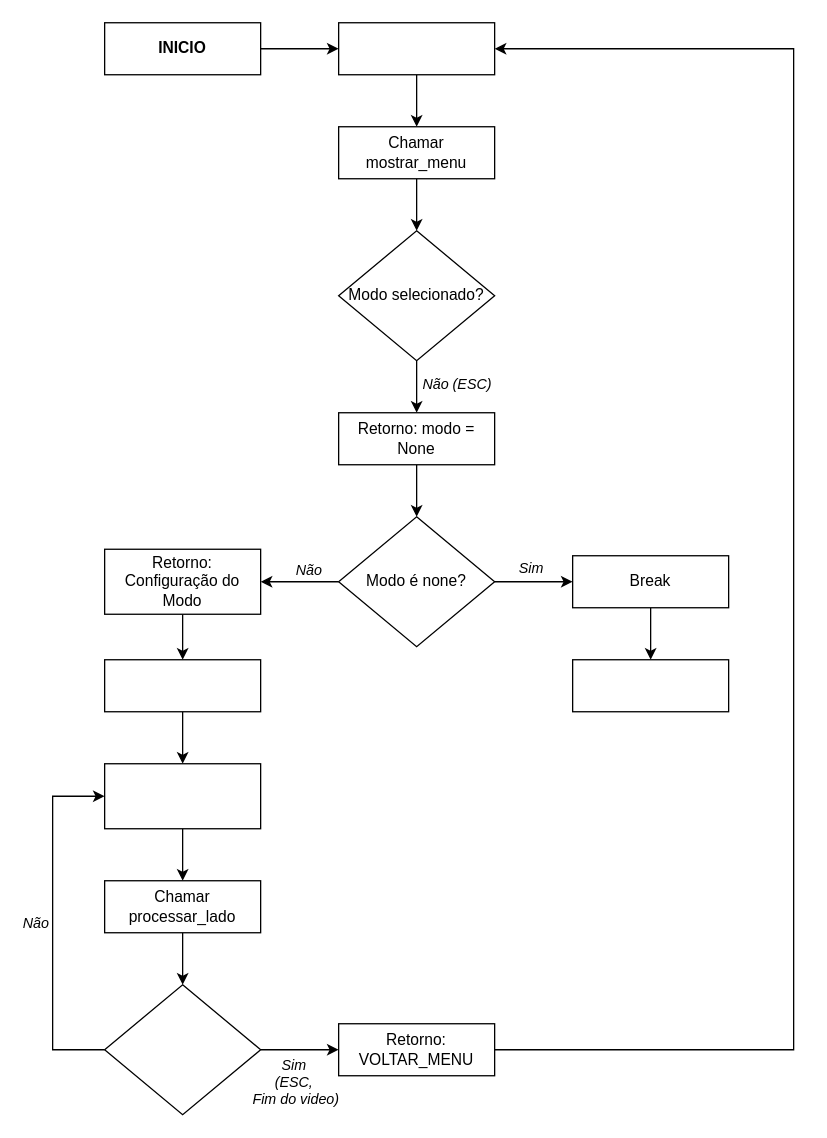
Image size: 827x1138. Some labels were removed from this diagram. Each missing label, with the centre of its shape:
"Chamar principal" goes at point 182,685.
"Condição término?" goes at point 182,1049.
"FIM" goes at point 650,685.
"LOOP de processamento de video" goes at point 182,795.
"LOOP principal" goes at point 416,48.
